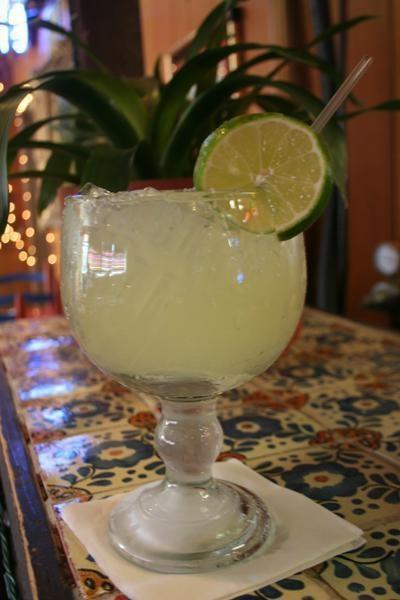glass-wine: (57, 184, 313, 574)
